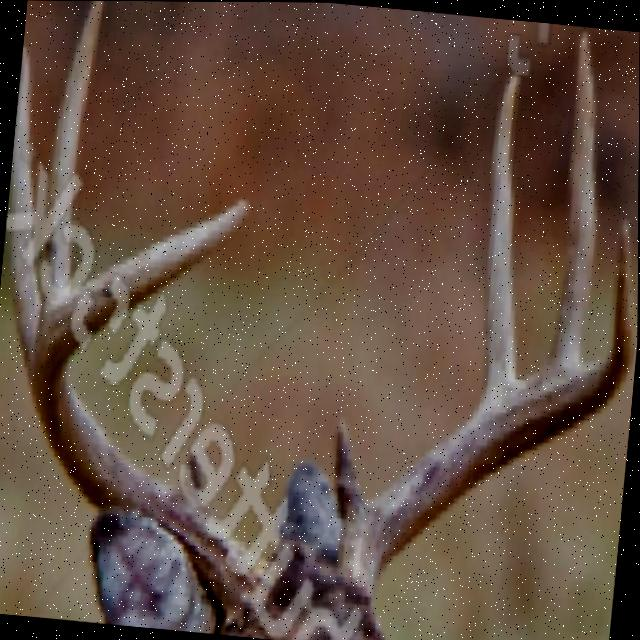L-F: (27, 195, 259, 626)
L-G1: (8, 43, 41, 376)
L-G2: (43, 1, 105, 305)
R-F: (336, 211, 635, 606)
R-G1: (333, 418, 363, 518)
R-G2: (482, 71, 522, 395)
R-G3: (543, 29, 597, 370)
